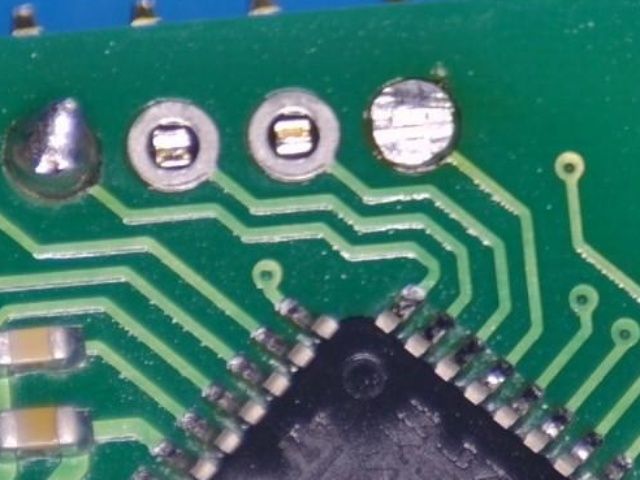pcb_defect: (7, 97, 98, 197)
